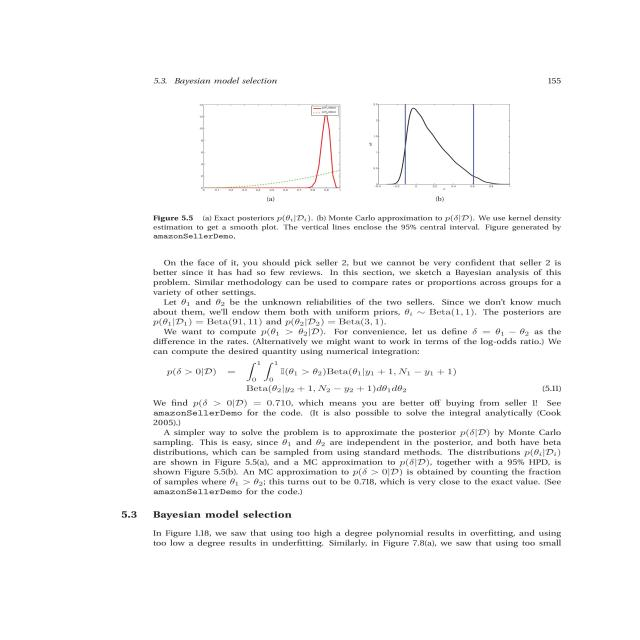diagram: (99, 89, 640, 247)
